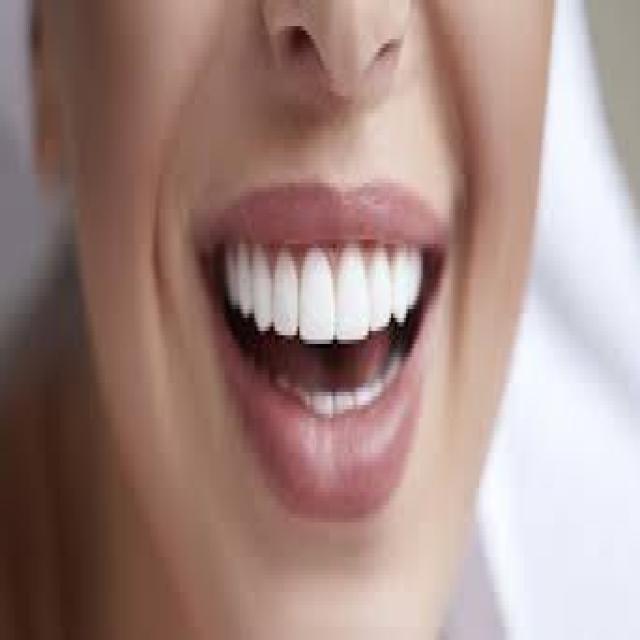tooth: (299, 244, 337, 335), (337, 252, 372, 340), (271, 248, 296, 348), (369, 244, 393, 331), (393, 252, 419, 318), (251, 257, 271, 331), (235, 231, 252, 318), (224, 248, 242, 327)
